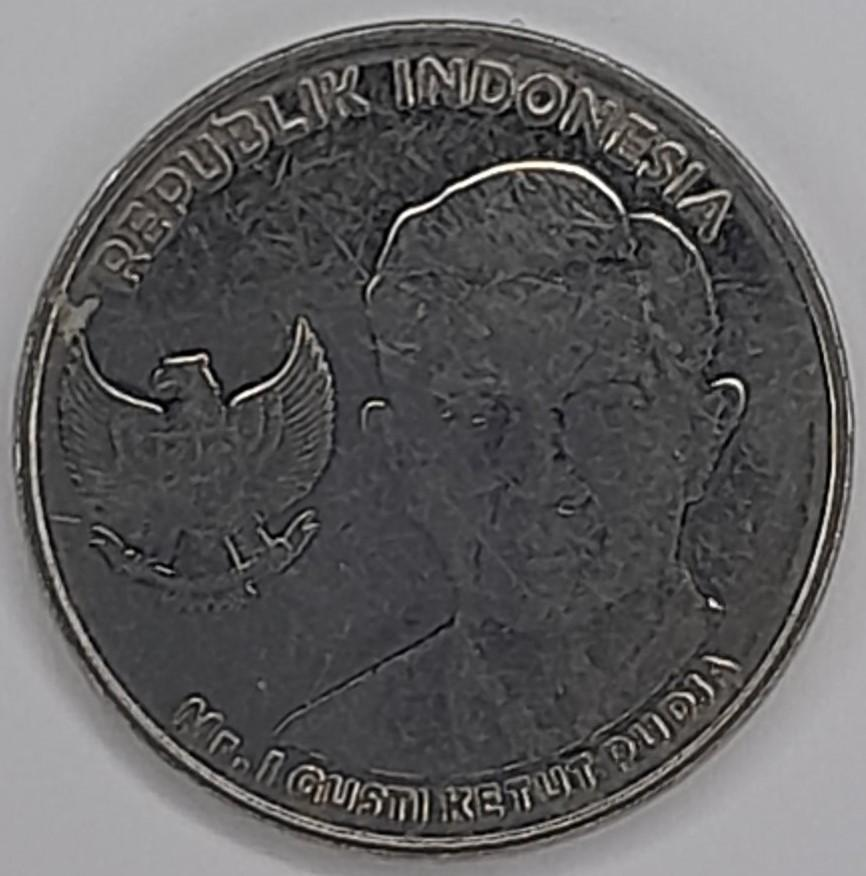coin_1000_e2016: (15, 17, 855, 876)
